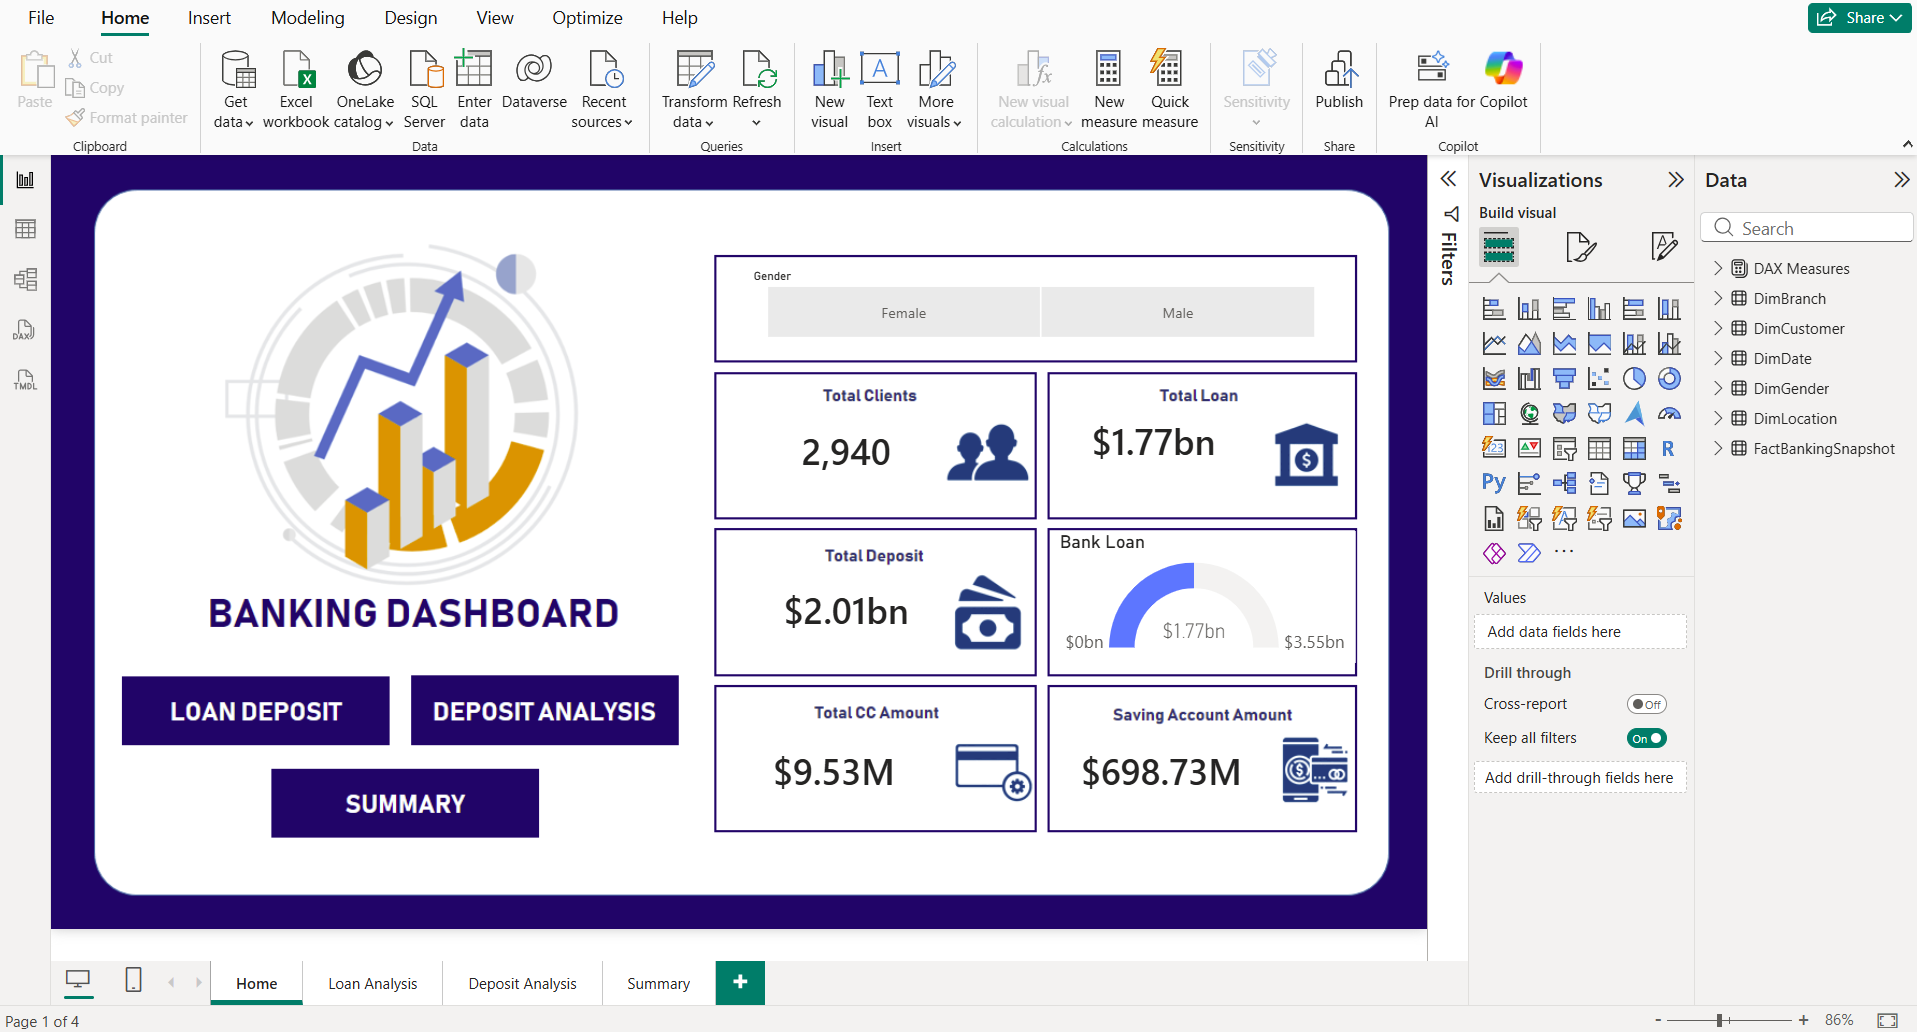

The dashboard page shown, as its layout file describes it:
{"tool":"powerbi","page":{"name":"Home","canvas":[1280,720],"ordinal":0},"visuals":[{"type":"slicer","fields":{"Values":["DimGender.Gender"]},"box":[640.3,100.8,558.2,75],"z":0},{"type":"card","fields":{"Values":["DAX Measures.Total Clients"]},"box":[640.3,218.1,198.2,114.9],"z":1000},{"type":"card","fields":{"Values":["DAX Measures.Total Loan"]},"box":[933.4,208.7,184.1,114.9],"z":2000},{"type":"card","fields":{"Values":["DAX Measures.Total Deposit"]},"box":[640.3,374.1,198.2,98.5],"z":3000},{"type":"card","fields":{"Values":["DAX Measures.Total CC Amount"]},"box":[628.5,533.6,198.2,79.7],"z":4000},{"type":"card","fields":{"Values":["DAX Measures.Savings Account"]},"box":[933.4,533.6,198.2,79.7],"z":5000},{"type":"actionButton","box":[63.3,483.1,253.3,65.7],"z":6000},{"type":"actionButton","box":[335.4,485.5,250.9,63.3],"z":7000},{"type":"actionButton","box":[205.2,573.4,255.6,61],"z":8000},{"type":"gauge","fields":{"Y":["DAX Measures.Bank Loan"]},"box":[934,350,280,122],"z":9000}]}

Visuals, with their boxes on the page's 1280x720 design canvas (x1, y1, x2, y2). These are canvas units, not pixel positions in the 1917x1032 screenshot, which may show the page scaled, cropped or inside an application window:
slicer - DimGender.Gender: [640, 101, 1198, 176]
card - DAX Measures.Total Clients: [640, 218, 838, 333]
card - DAX Measures.Total Loan: [933, 209, 1118, 324]
card - DAX Measures.Total Deposit: [640, 374, 838, 473]
card - DAX Measures.Total CC Amount: [628, 534, 827, 613]
card - DAX Measures.Savings Account: [933, 534, 1132, 613]
actionButton: [63, 483, 317, 549]
actionButton: [335, 486, 586, 549]
actionButton: [205, 573, 461, 634]
gauge - DAX Measures.Bank Loan: [934, 350, 1214, 472]
